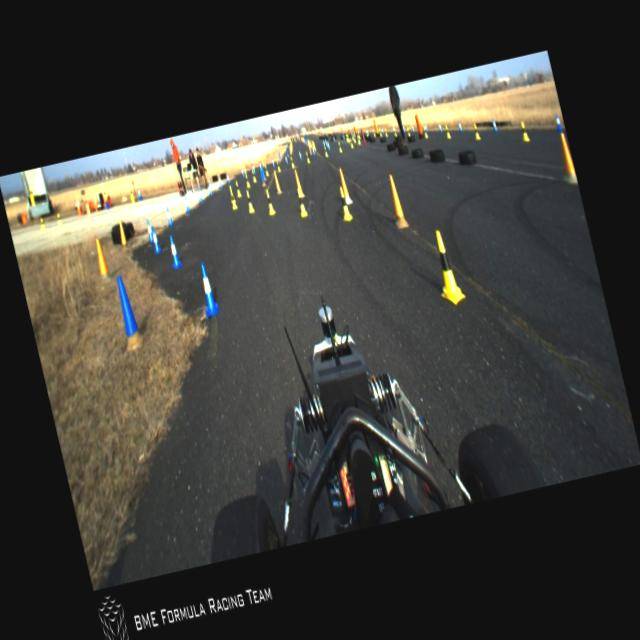blue_cone: (196, 261, 220, 314), (165, 234, 182, 268), (148, 225, 162, 253), (145, 219, 154, 241), (164, 206, 173, 225), (554, 112, 562, 130), (196, 187, 204, 203), (183, 195, 190, 211), (491, 117, 498, 132), (136, 185, 141, 197), (423, 122, 428, 132), (458, 120, 462, 132), (208, 182, 212, 194), (218, 176, 222, 188), (272, 158, 276, 168), (284, 154, 288, 164), (298, 150, 302, 160), (438, 122, 442, 132), (326, 140, 330, 150), (226, 173, 230, 183), (240, 167, 244, 176), (252, 164, 256, 172), (312, 147, 316, 155), (410, 124, 414, 132), (380, 126, 384, 134), (324, 138, 328, 146), (322, 138, 325, 146), (392, 126, 395, 132)
orange_cone: (75, 196, 81, 209), (92, 192, 97, 205), (82, 193, 87, 203)
unknown_cone: (110, 274, 146, 351), (384, 172, 409, 229), (552, 132, 578, 185), (92, 237, 110, 279), (338, 168, 353, 204), (115, 218, 128, 248), (292, 168, 305, 198), (271, 168, 282, 194), (258, 166, 266, 186), (259, 162, 266, 180), (312, 140, 316, 151), (308, 144, 312, 154), (277, 150, 281, 160), (285, 147, 289, 157), (288, 146, 292, 154)
yellow_cone: (426, 227, 466, 307), (336, 184, 354, 222), (263, 188, 276, 215), (296, 190, 308, 217), (518, 120, 530, 141), (228, 184, 238, 209), (244, 190, 254, 212), (234, 180, 242, 197), (472, 123, 480, 139), (250, 167, 257, 183), (444, 123, 451, 138), (101, 188, 108, 200), (39, 218, 46, 230), (244, 174, 250, 187), (275, 159, 281, 172), (288, 155, 294, 168), (56, 212, 62, 225), (322, 145, 328, 157), (28, 185, 34, 197), (305, 150, 310, 162), (337, 140, 342, 152), (422, 125, 427, 137), (392, 126, 397, 138), (128, 187, 134, 197), (349, 137, 354, 148), (264, 162, 268, 175), (406, 126, 411, 136), (383, 128, 388, 138), (356, 134, 361, 144), (372, 127, 376, 137), (378, 127, 382, 137), (344, 132, 348, 142), (346, 134, 351, 142), (357, 130, 361, 139), (350, 132, 354, 140), (352, 135, 356, 143), (365, 129, 368, 136)
